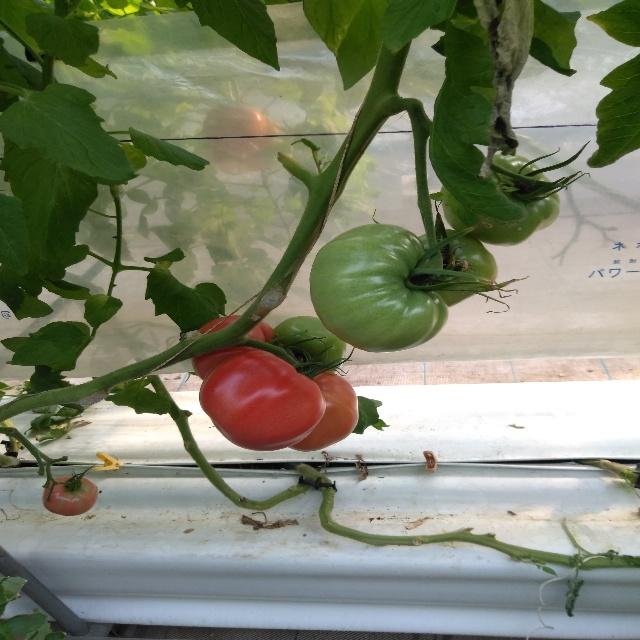b_fully_ripened: (199, 350, 327, 452), (192, 315, 276, 380)
b_green: (309, 223, 450, 353), (439, 153, 560, 247), (418, 228, 498, 307), (273, 315, 347, 373)
b_half_ripened: (290, 369, 360, 452), (42, 475, 98, 517)
